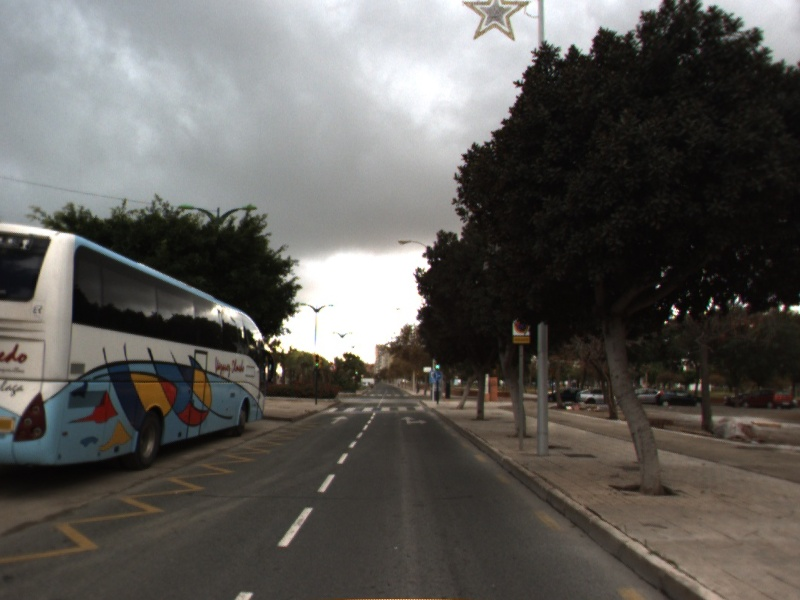STRAIGHT: (328, 414, 350, 426)
STRAIGHT_RIGHT: (398, 414, 430, 427)
